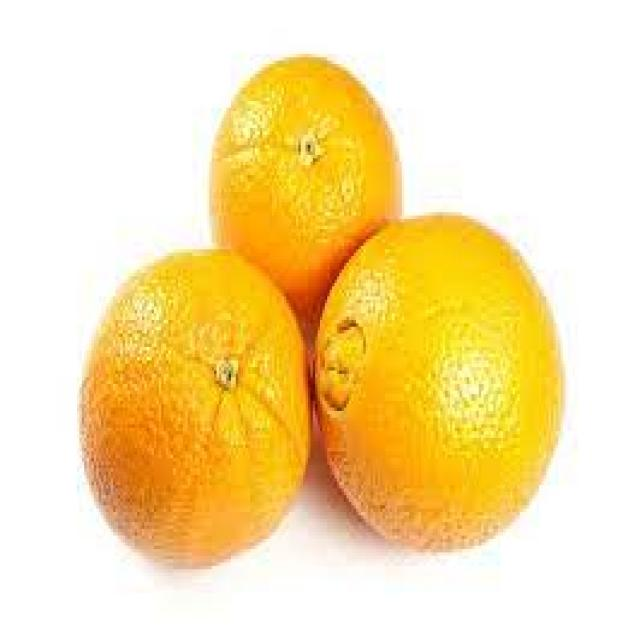Good_Orange: (313, 216, 570, 556), (77, 249, 313, 573), (209, 54, 402, 350)
